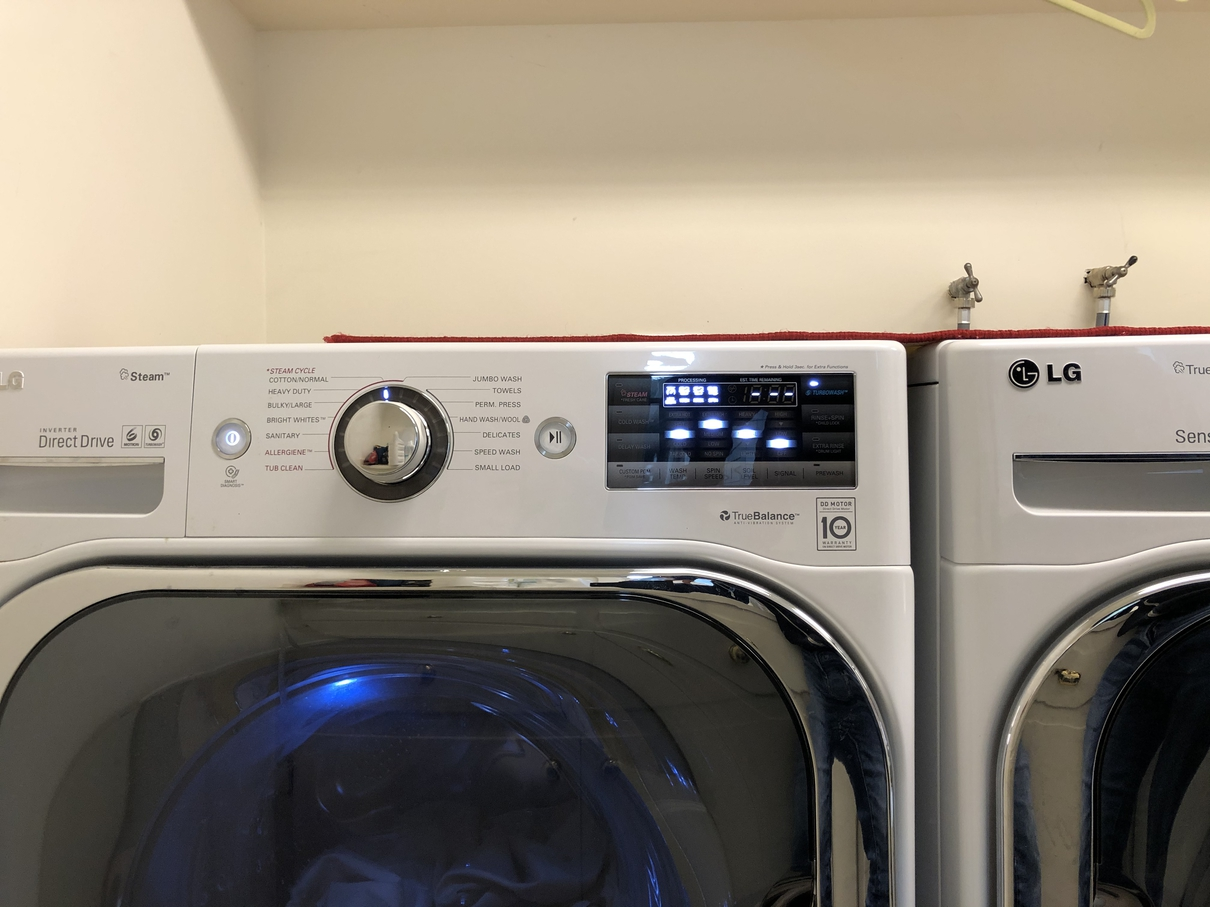status: (656, 372, 801, 413)
